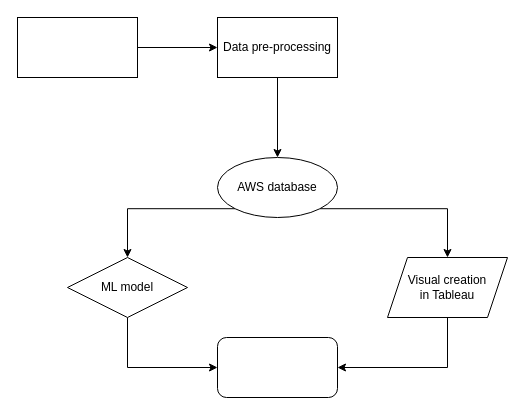
Some shapes in this 525 by 415 pixel diagram are drawn without their labels. Each missing label, with the box of its shape:
Final presentation: (216, 336, 338, 398)
Raw data: (16, 16, 138, 78)
